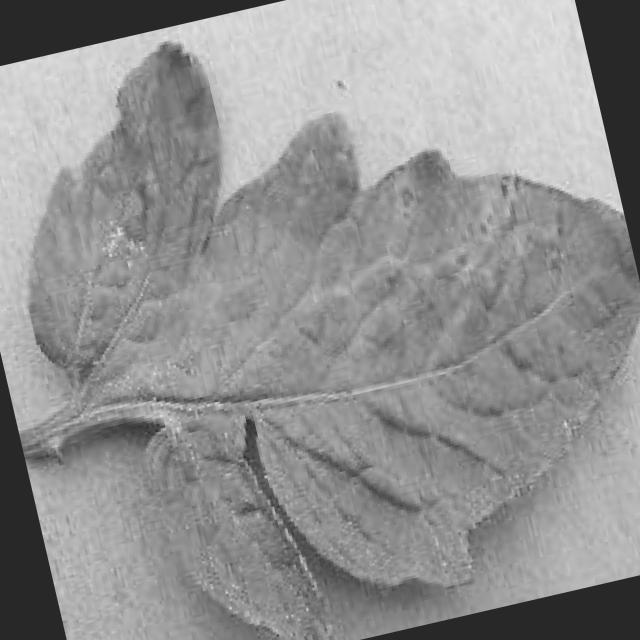bacterial spot: (20, 41, 640, 640)
